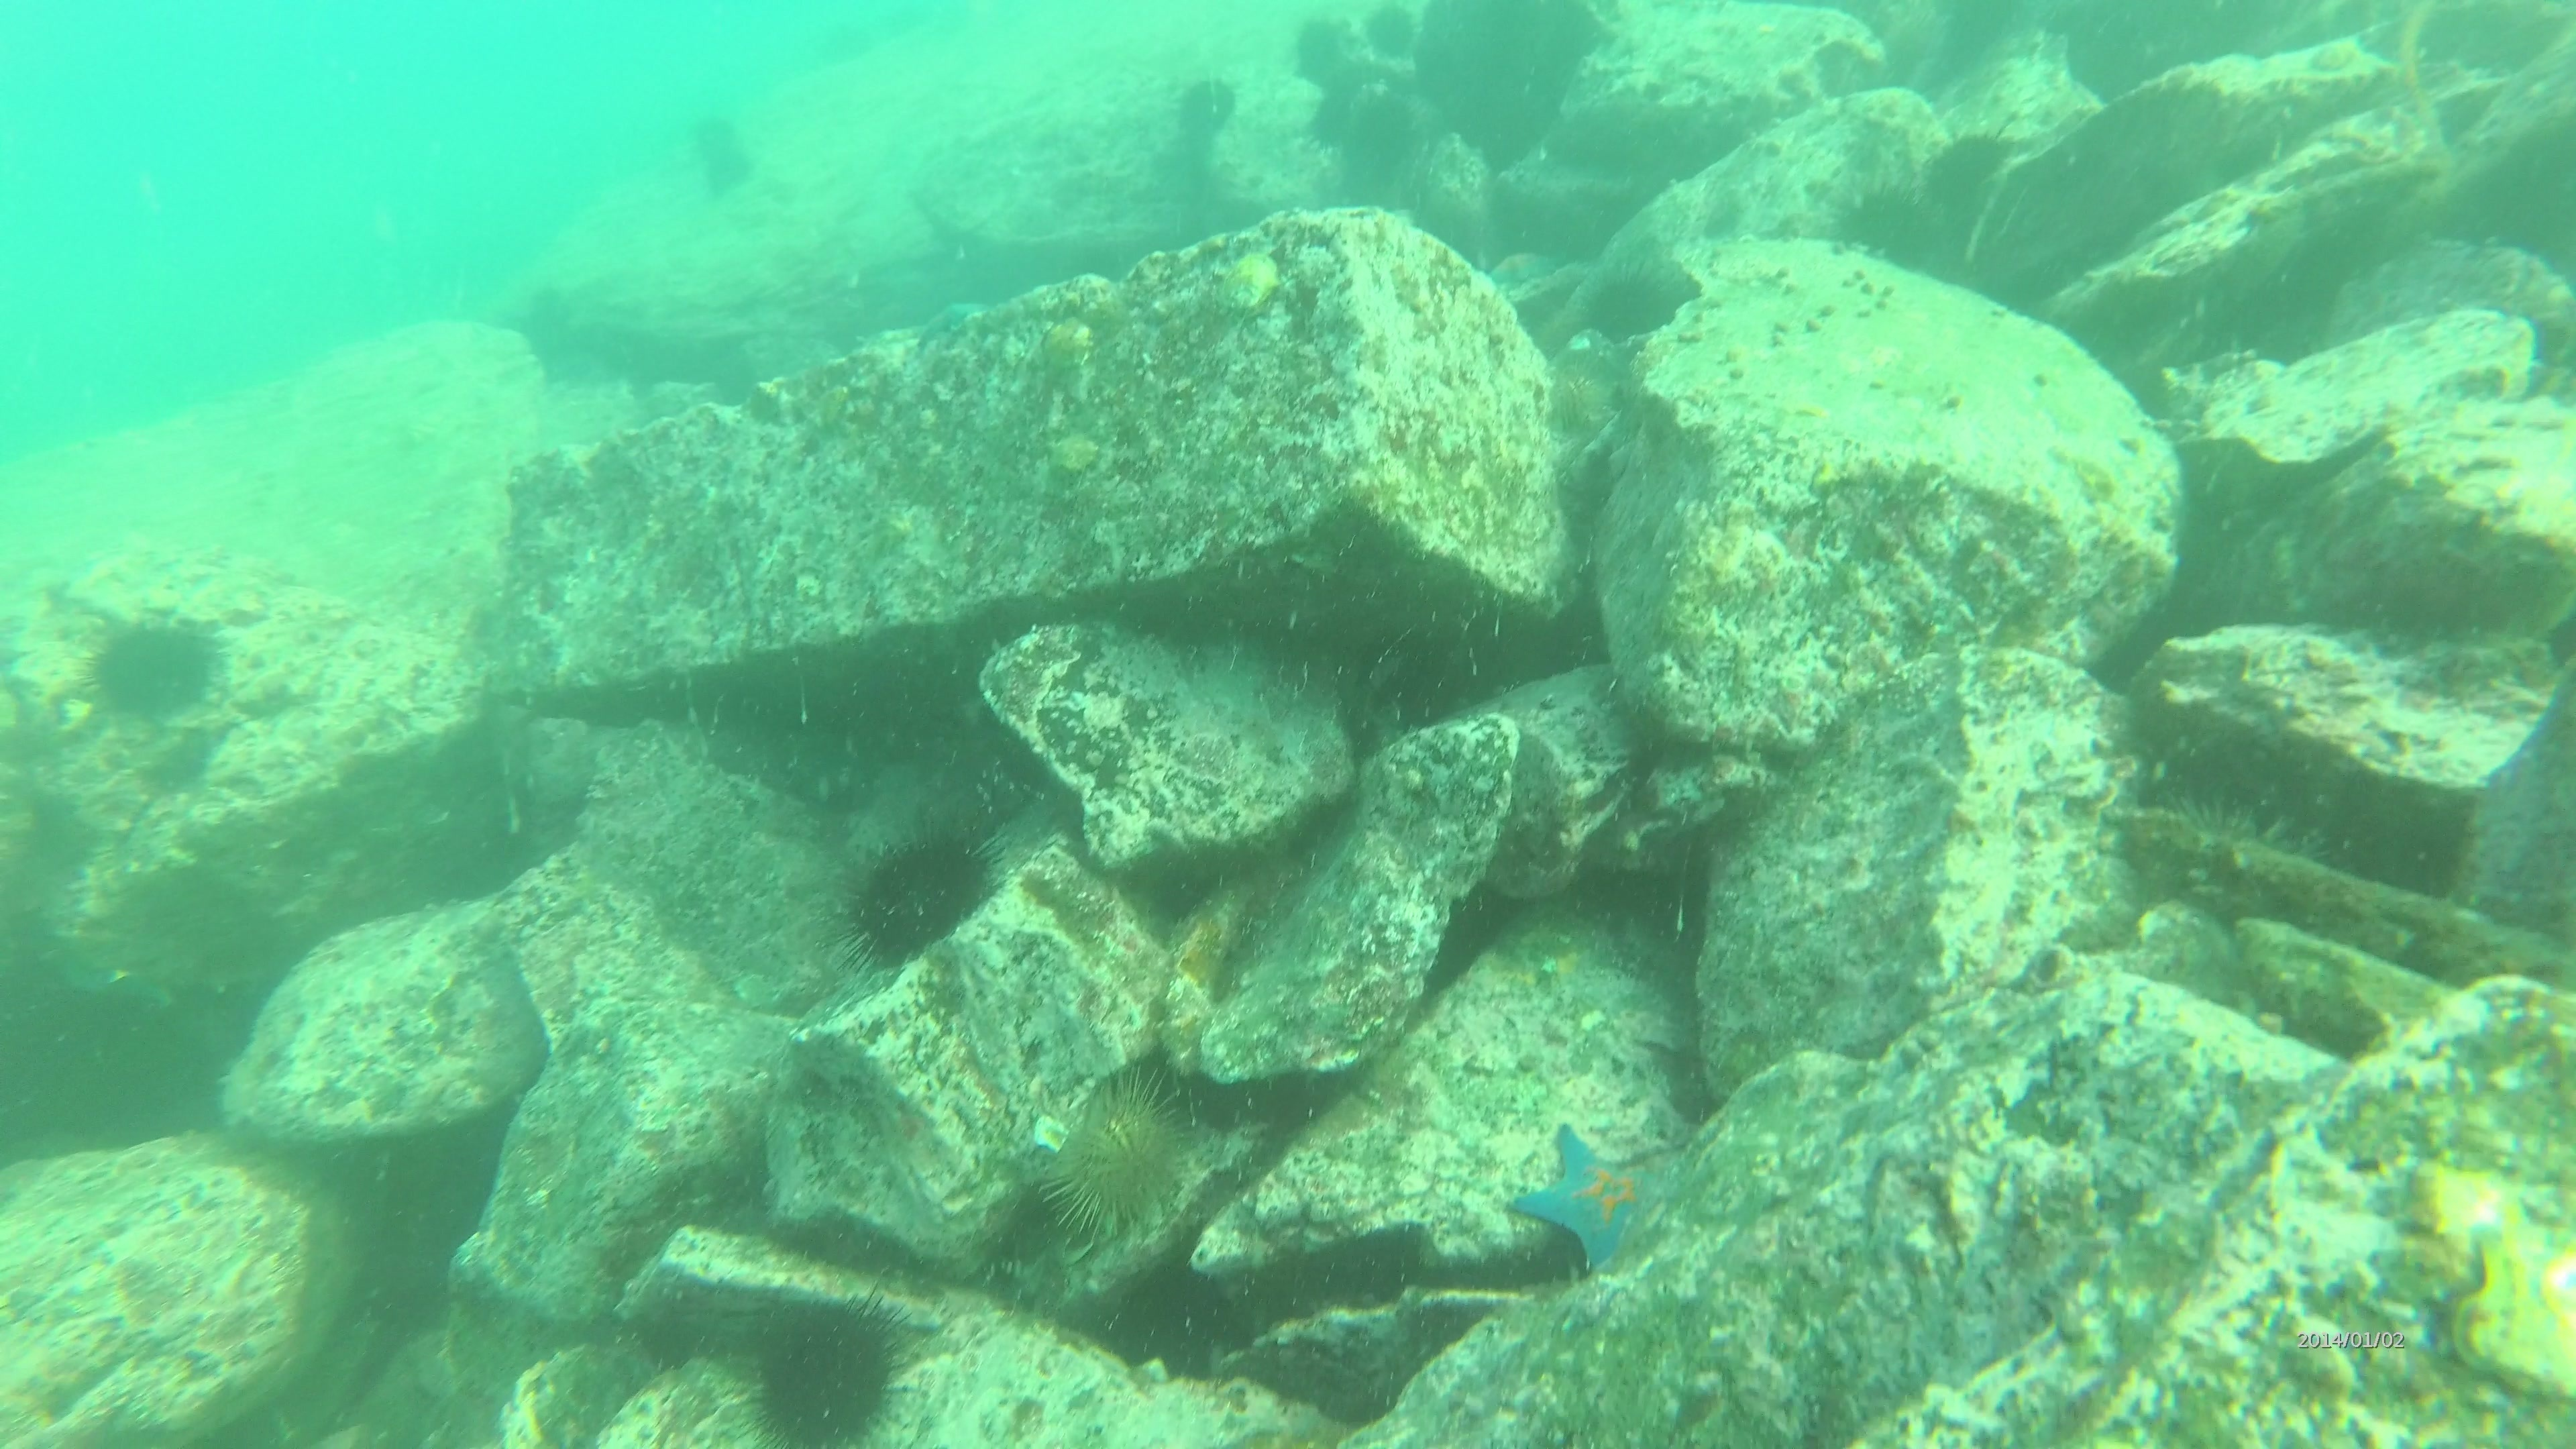echinus: (1028, 1069, 1203, 1249), (732, 1293, 916, 1444), (104, 856, 288, 1003), (835, 819, 1007, 975), (78, 609, 228, 729), (1826, 175, 1953, 281), (1571, 255, 1702, 352), (1320, 81, 1430, 191), (1918, 124, 2019, 230), (1283, 12, 1368, 96), (1164, 69, 1244, 154), (701, 147, 761, 202), (694, 117, 738, 145)
starfish: (1504, 1118, 1674, 1277), (1484, 246, 1559, 283)
